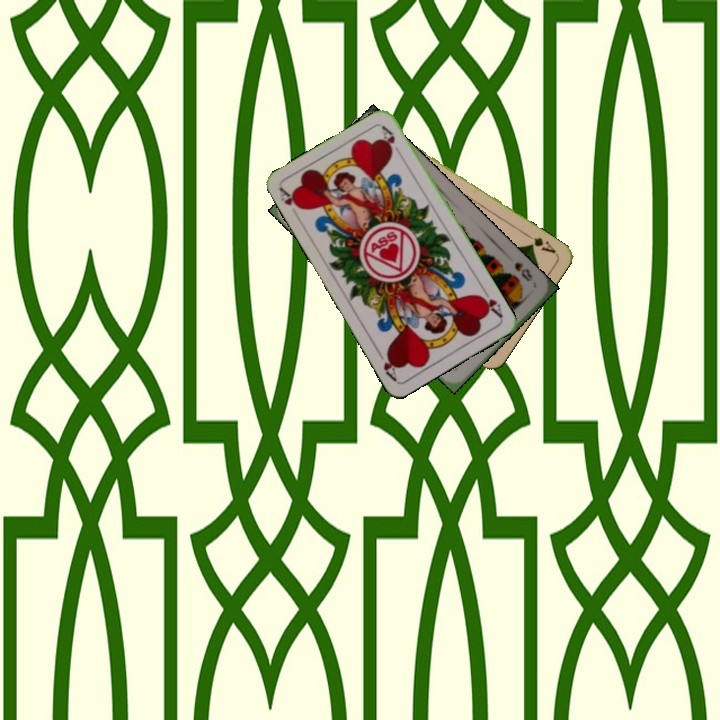GA: (522, 229, 559, 256)
HA: (474, 284, 505, 320), (276, 184, 305, 212)
S8: (510, 258, 535, 284)
